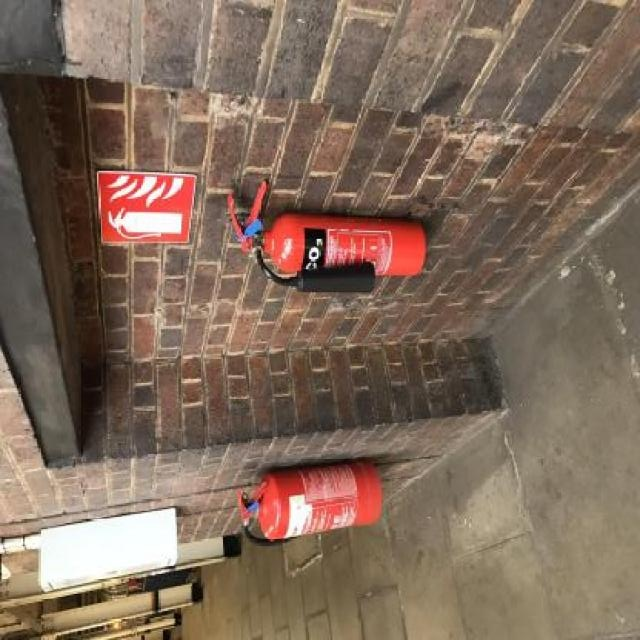fire extinguisher: (225, 179, 427, 293), (238, 457, 382, 546)
